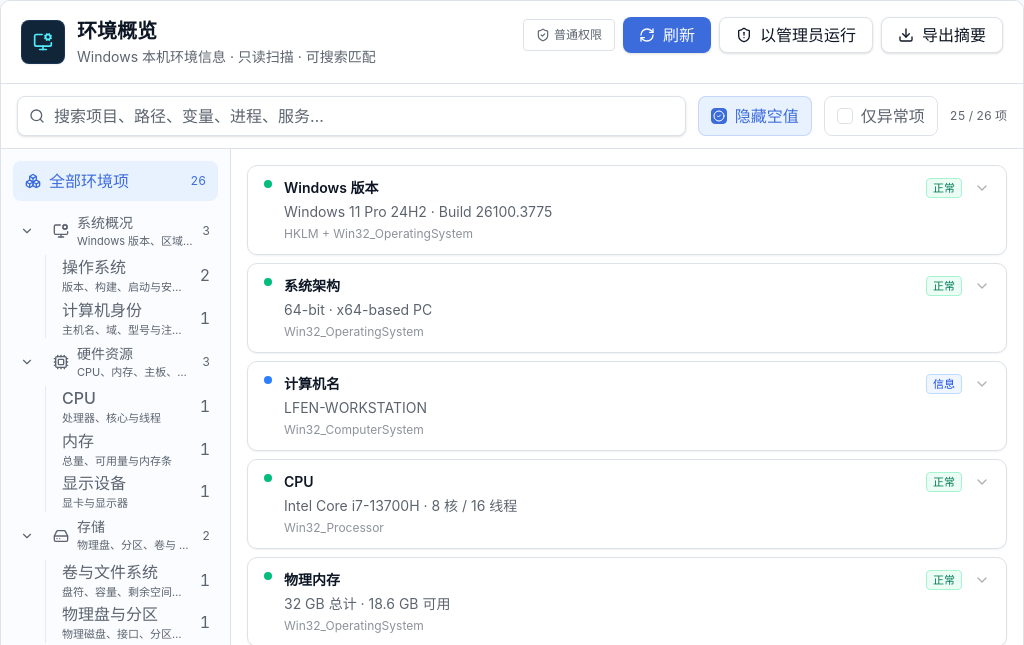
Scenario: EnvironmentOverviewTool › supports the issue-only filter toggle
Expected: the heading "环境概览" is shown, [77,19,157,43]
Click the button "仅异常项" at (881,116), box [824,96,938,136]
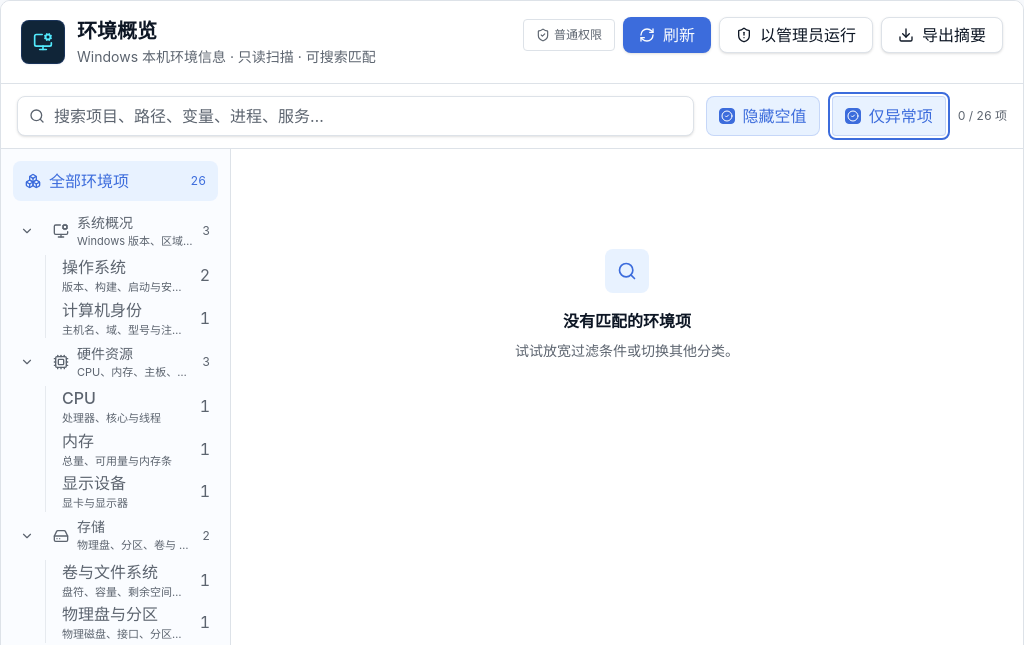
Result: the heading "没有匹配的环境项" is shown at [563,311,691,331]
